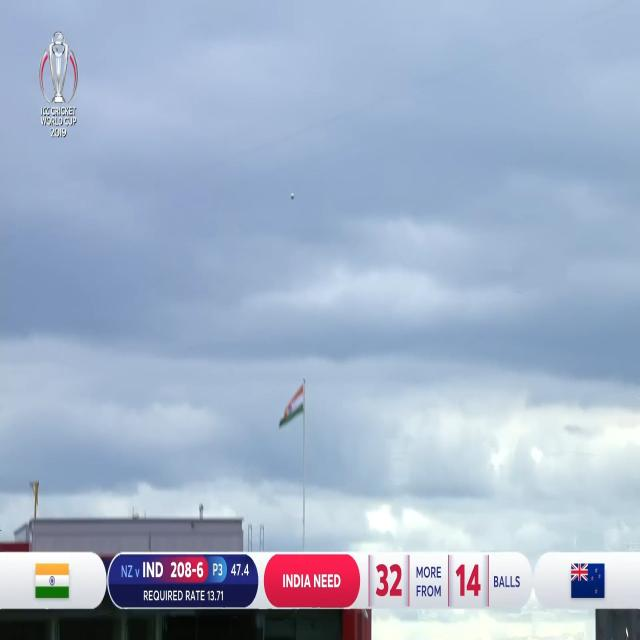ball: (286, 184, 298, 205)
